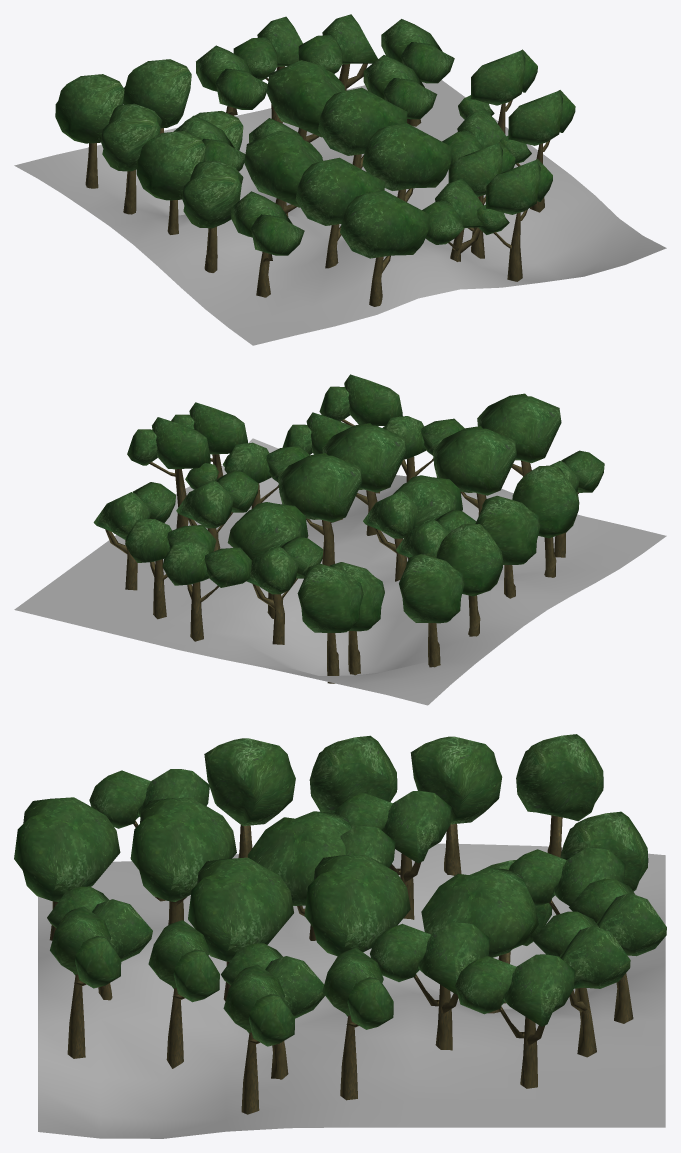
The model's file is forrestTile.fbx.
3 views of the same model, one above another, from view 1: azimuth 30°, elevation 25°; view 2: azimuth 150°, elevation 25°; view 3: azimuth 270°, elevation 25° (orthographic). The views are drawn at different scales.
Visible parts, largest first — view 1: pPlane1, Tree_Green_19, Tree_Green_6, Tree_Green_16, Tree_Green_21, Tree_Green_14, Tree_Green_3, Tree_Green_1, Tree_Green_9, Tree_Green_22, Tree_Green_12, Tree_Green_20 (+15 smaller); view 2: pPlane1, Tree_Green_3, Tree_Green_16, Tree_Green_4, Tree_Green_14, Tree_Green_18, Tree_Green_23, Tree_Green_6, Tree_Green_19, Tree_Green_25, Tree_Green_12, Tree_Green_11 (+15 smaller); view 3: pPlane1, Tree_Green_19, Tree_Green_16, Tree_Green_3, Tree_Green_6, Tree_Green_15, Tree_Green_2, Tree_Green_9, Tree_Green_12, Tree_Green_14, Tree_Green_25, Tree_Green_10 (+15 smaller).
Part boxes in pixels (x1,y1,x2,y2): pPlane1: (14,80,666,345); Tree_Green_19: (340,190,429,306); Tree_Green_6: (362,123,451,201); Tree_Green_16: (295,157,384,268); Tree_Green_21: (477,159,552,281); Tree_Green_14: (55,74,124,188); Tree_Green_3: (318,87,407,168); Tree_Green_1: (136,131,205,234); Tree_Green_9: (267,60,345,142); Tree_Green_22: (244,130,322,213); Tree_Green_12: (182,160,243,272); Tree_Green_20: (231,191,304,297); pPlane1: (14,438,666,705); Tree_Green_3: (278,453,362,566); Tree_Green_16: (433,426,516,515); Tree_Green_4: (127,417,218,528); Tree_Green_14: (399,554,464,667); Tree_Green_18: (297,563,363,683); Tree_Green_23: (162,541,251,641); Tree_Green_6: (322,423,406,535); Tree_Green_19: (477,393,561,476); Tree_Green_25: (436,524,503,636); Tree_Green_12: (512,465,579,577); Tree_Green_11: (246,536,323,644); pPlane1: (38,843,665,1138); Tree_Green_19: (14,797,120,940); Tree_Green_16: (130,797,236,924); Tree_Green_3: (304,854,410,956); Tree_Green_6: (188,857,293,1001); Tree_Green_15: (455,954,575,1088); Tree_Green_2: (370,922,490,1050); Tree_Green_9: (421,867,538,1013); Tree_Green_12: (204,738,295,857); Tree_Green_14: (516,734,603,857); Tree_Green_25: (410,736,502,875); Tree_Green_10: (532,911,630,1057).
Bounding box in the file's own units: 1129 × 419 × 1174.
Materials: 5 (4 with a texture image).
